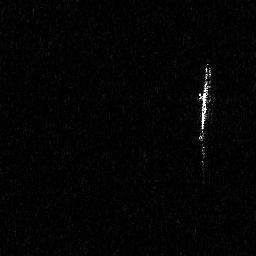ship: (196, 61, 214, 169)
